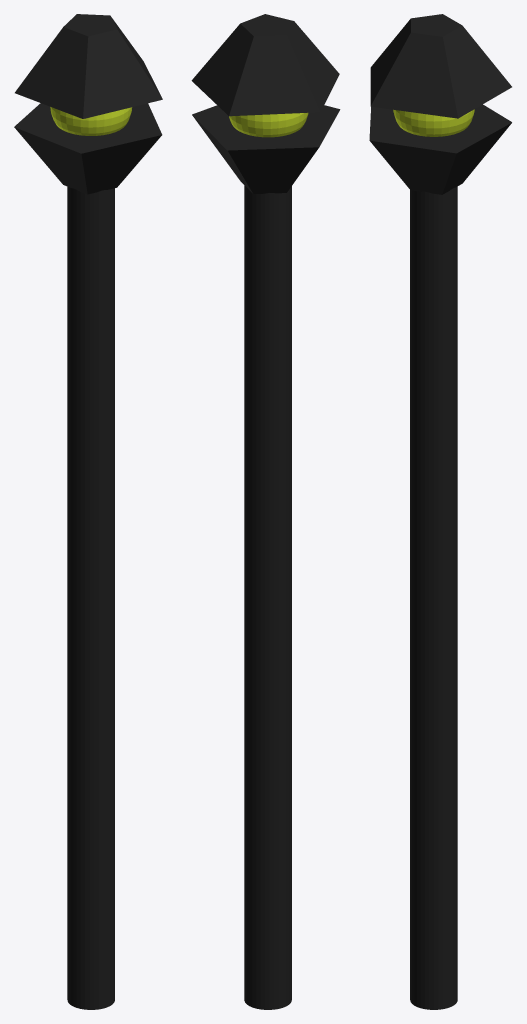
Rendered from StreetLight.fbx.
The picture shows the model from 3 angles, left to right: view 1: azimuth 30°, elevation 25°; view 2: azimuth 150°, elevation 25°; view 3: azimuth 270°, elevation 25°; orthographic projection.
Parts seen in each view (by area): view 1: Lightbulb; view 2: Lightbulb; view 3: Lightbulb.
Part boxes in pixels (x1=…): Lightbulb: x1=14, y1=14, x2=162, y2=1009; Lightbulb: x1=191, y1=14, x2=340, y2=1009; Lightbulb: x1=369, y1=14, x2=511, y2=1009.
Bounding box in the file's own units: 84.19 × 604 × 80.38.
